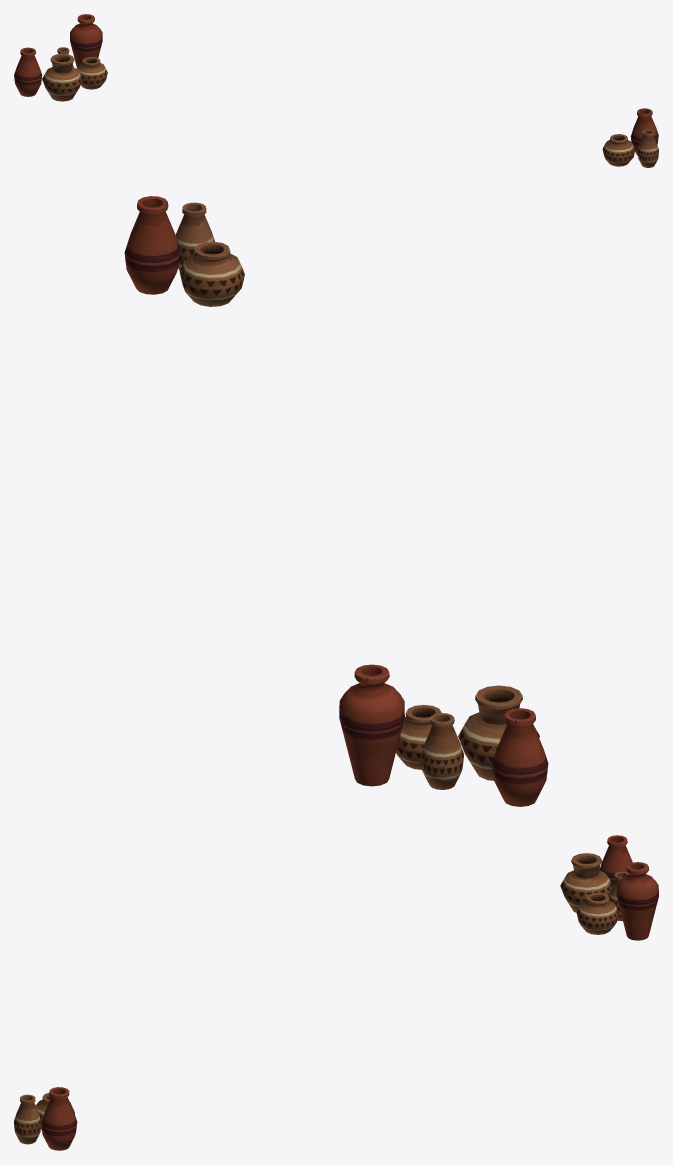
Rendered from Jarrones.fbx.
3 renders of one model, top to bottom at view 1: azimuth 30°, elevation 25°; view 2: azimuth 150°, elevation 25°; view 3: azimuth 270°, elevation 25°, orthographic. The views are drawn at different scales.
Parts seen in each view (by area): view 1: SM_PROP_pot_dungeon_03.002, SM_PROP_pot_dungeon_10.001, SM_PROP_pot_dungeon_09.002, SM_PROP_pot_dungeon_01.003, SM_PROP_pot_dungeon_01.002, SM_PROP_pot_dungeon_04.003, SM_PROP_pot_dungeon_09.003; view 2: SM_PROP_pot_dungeon_10.001, SM_PROP_pot_dungeon_09.002, SM_PROP_pot_dungeon_09.003, SM_PROP_pot_dungeon_03.002, SM_PROP_pot_dungeon_01.003, SM_PROP_pot_dungeon_04.002, SM_PROP_pot_dungeon_01.002, SM_PROP_pot_dungeon_04.003; view 3: SM_PROP_pot_dungeon_10.001, SM_PROP_pot_dungeon_03.002, SM_PROP_pot_dungeon_09.003, SM_PROP_pot_dungeon_01.002, SM_PROP_pot_dungeon_04.003, SM_PROP_pot_dungeon_09.002.
Part boxes in pixels (x1,y1,x2,y2): SM_PROP_pot_dungeon_03.002: (42, 53, 82, 101); SM_PROP_pot_dungeon_10.001: (70, 14, 102, 67); SM_PROP_pot_dungeon_09.002: (14, 47, 42, 96); SM_PROP_pot_dungeon_01.003: (602, 134, 635, 166); SM_PROP_pot_dungeon_01.002: (77, 57, 107, 89); SM_PROP_pot_dungeon_04.003: (637, 129, 658, 167); SM_PROP_pot_dungeon_09.003: (630, 108, 658, 155); SM_PROP_pot_dungeon_10.001: (339, 664, 404, 786); SM_PROP_pot_dungeon_09.002: (492, 708, 548, 806); SM_PROP_pot_dungeon_09.003: (124, 196, 180, 294); SM_PROP_pot_dungeon_03.002: (458, 685, 539, 780); SM_PROP_pot_dungeon_01.003: (179, 241, 244, 306); SM_PROP_pot_dungeon_04.002: (420, 713, 463, 789); SM_PROP_pot_dungeon_01.002: (396, 704, 441, 769); SM_PROP_pot_dungeon_04.003: (176, 202, 214, 270); SM_PROP_pot_dungeon_10.001: (616, 862, 658, 940); SM_PROP_pot_dungeon_03.002: (560, 853, 612, 912); SM_PROP_pot_dungeon_09.003: (41, 1087, 77, 1150); SM_PROP_pot_dungeon_01.002: (576, 893, 618, 934); SM_PROP_pot_dungeon_04.003: (14, 1094, 41, 1144); SM_PROP_pot_dungeon_09.002: (599, 835, 632, 896).
Size of the model in its own units: 13.88 by 1.69 by 14.16.
1 material, 1 textured.
